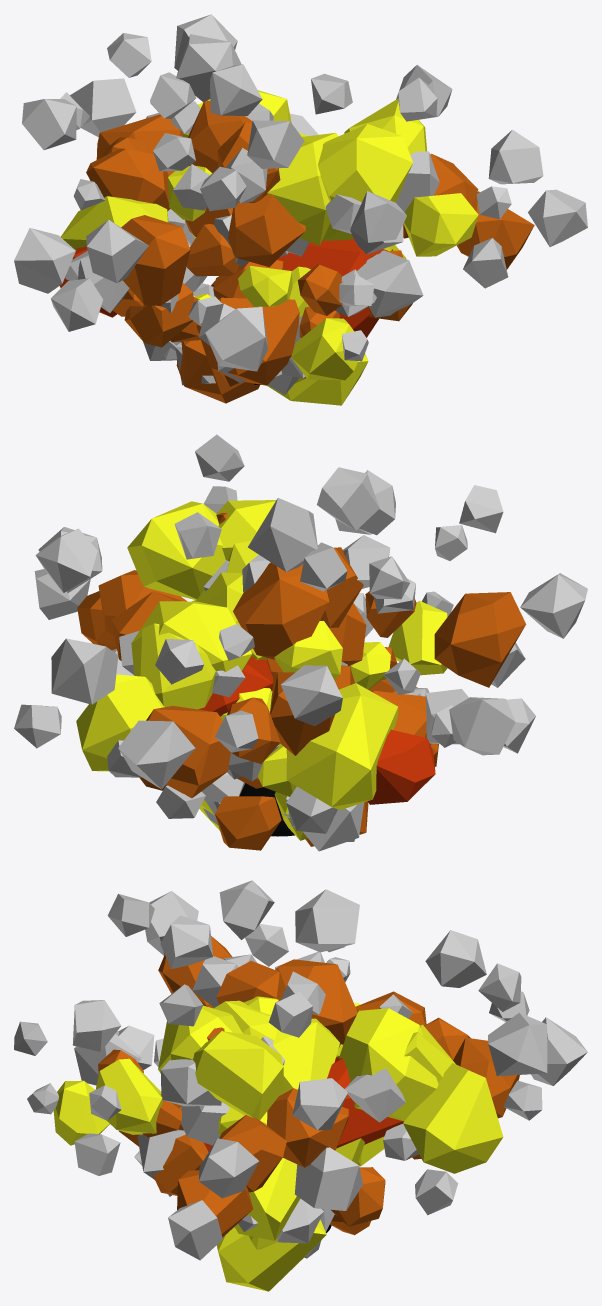
Rendered from Explosion0020.obj.
3 renders of one model, top to bottom at view 1: azimuth 30°, elevation 25°; view 2: azimuth 150°, elevation 25°; view 3: azimuth 270°, elevation 25°, orthographic. The views are drawn at different scales.
Parts seen in each view (by area): view 1: Cube_Material, Cube.001_Material.002, Cube.002_Material.003, Cube.003_Material.004; view 2: Cube_Material, Cube.002_Material.003, Cube.001_Material.002, Cube.003_Material.004, Circle_Material.001; view 3: Cube_Material, Cube.002_Material.003, Cube.001_Material.002, Cube.003_Material.004.
Part boxes in pixels (x1=…): Cube_Material: x1=14, y1=14, x2=587, y2=394; Cube.001_Material.002: x1=86, y1=100, x2=534, y2=403; Cube.002_Material.003: x1=61, y1=90, x2=478, y2=405; Cube.003_Material.004: x1=60, y1=238, x2=393, y2=337; Cube_Material: x1=14, y1=434, x2=587, y2=851; Cube.002_Material.003: x1=76, y1=500, x2=447, y2=840; Cube.001_Material.002: x1=77, y1=513, x2=526, y2=850; Cube.003_Material.004: x1=198, y1=656, x2=435, y2=804; Circle_Material.001: x1=239, y1=783, x2=294, y2=836; Cube_Material: x1=14, y1=880, x2=587, y2=1260; Cube.002_Material.003: x1=53, y1=996, x2=503, y2=1291; Cube.001_Material.002: x1=98, y1=936, x2=519, y2=1237; Cube.003_Material.004: x1=203, y1=1056, x2=403, y2=1151.
Size of the model in its own units: 11.93 by 8.07 by 11.73.
